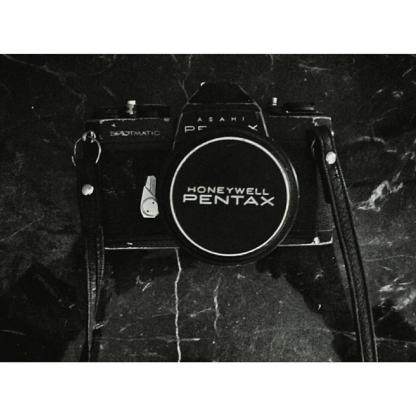Camera: (87, 82, 338, 249)
